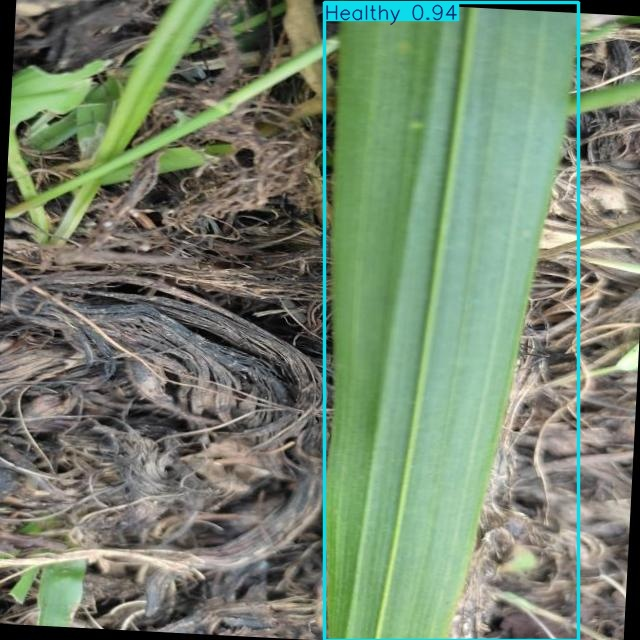Healthy: (325, 3, 578, 640)
